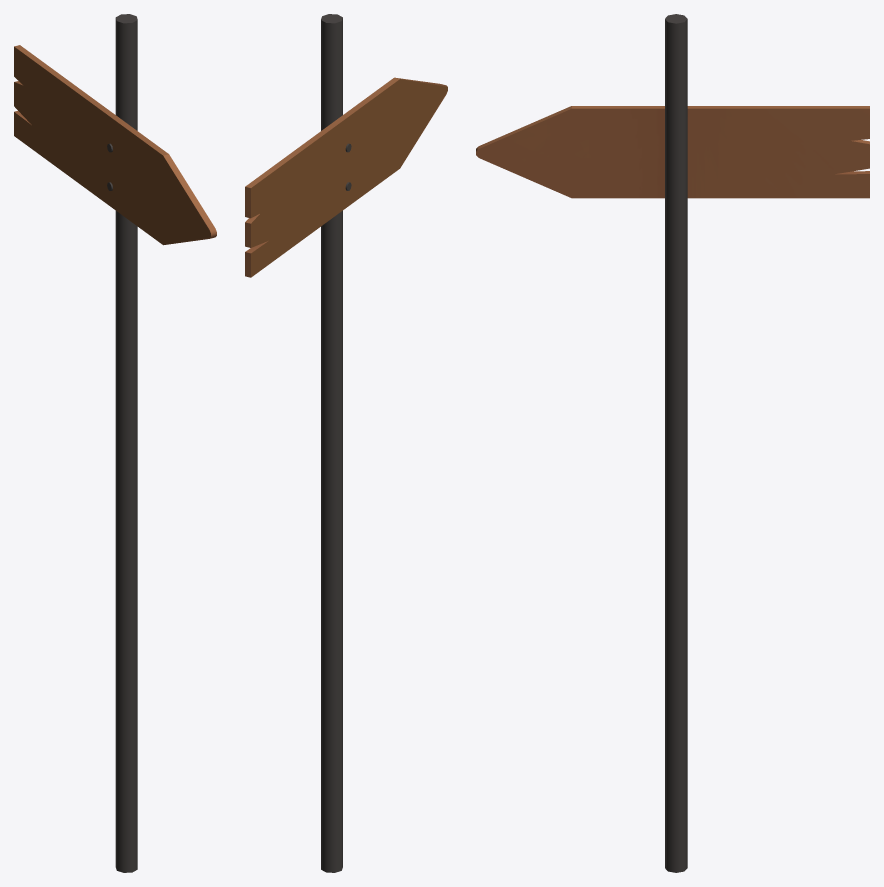
The model's file is TabelaDrrurit.fbx.
3 views of the same model, side by side, from view 1: azimuth 30°, elevation 25°; view 2: azimuth 150°, elevation 25°; view 3: azimuth 270°, elevation 25° (orthographic).
Visible parts, largest first — view 1: School.001; view 2: School.001; view 3: School.001.
Part boxes in pixels (<box>): School.001: <box>14,14,216,872</box>; School.001: <box>245,14,447,872</box>; School.001: <box>476,14,869,872</box>.
Bounding box in the file's own units: 34.11 × 1015 × 427.
Materials: 2 (1 with a texture image).
